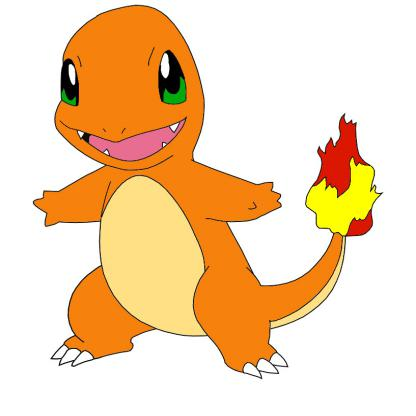Charmander: (34, 11, 416, 416)
